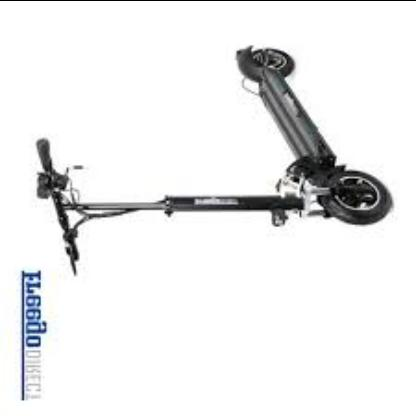bike: (33, 45, 394, 256), (228, 46, 393, 227)
